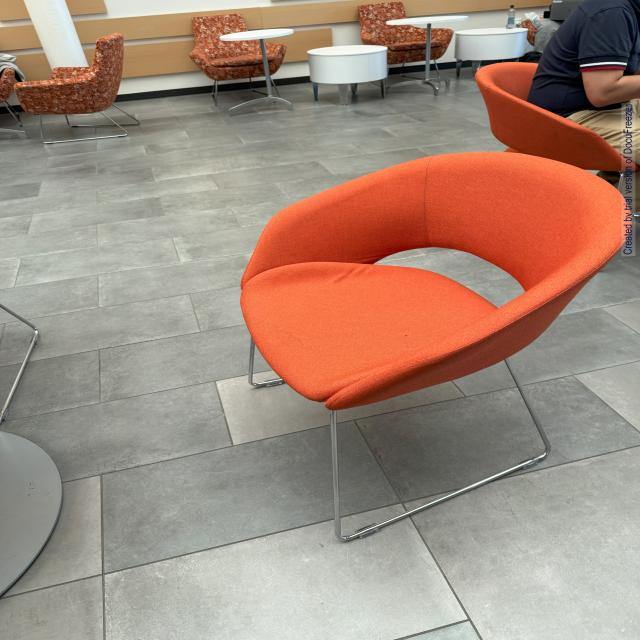chair: (230, 147, 624, 579)
